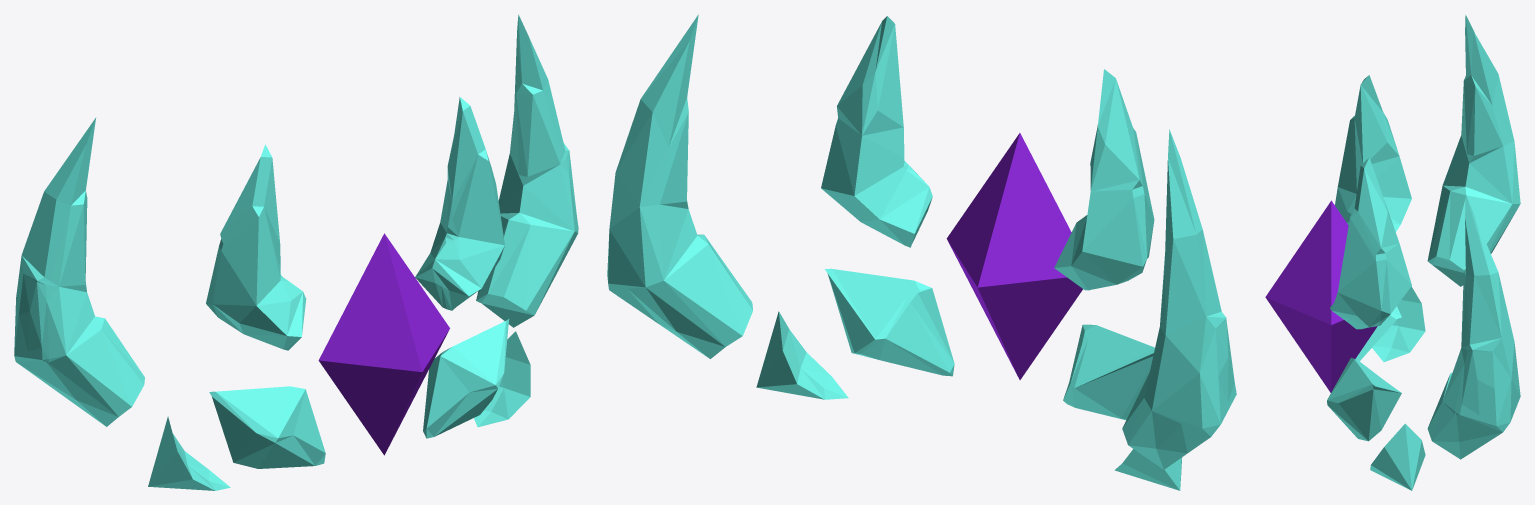
Rendered from mdlSuperIceCrown2.fbx.
3 renders of one model, left to right at view 1: azimuth 30°, elevation 25°; view 2: azimuth 150°, elevation 25°; view 3: azimuth 270°, elevation 25°, orthographic. The views are drawn at different scales.
Parts seen in each view (by area): view 1: mdlSuperIceCrown; view 2: mdlSuperIceCrown; view 3: mdlSuperIceCrown.
Boxes of the visible parts, <box> form: mdlSuperIceCrown: <box>14,14,578,490</box>; mdlSuperIceCrown: <box>607,14,1236,490</box>; mdlSuperIceCrown: <box>1265,15,1520,490</box>.
Bounding box in the file's own units: 1.47 × 0.9154 × 0.6808.
